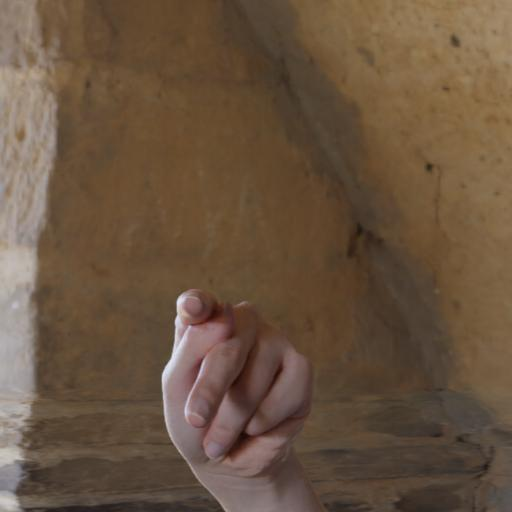P: (159, 283, 318, 503)
